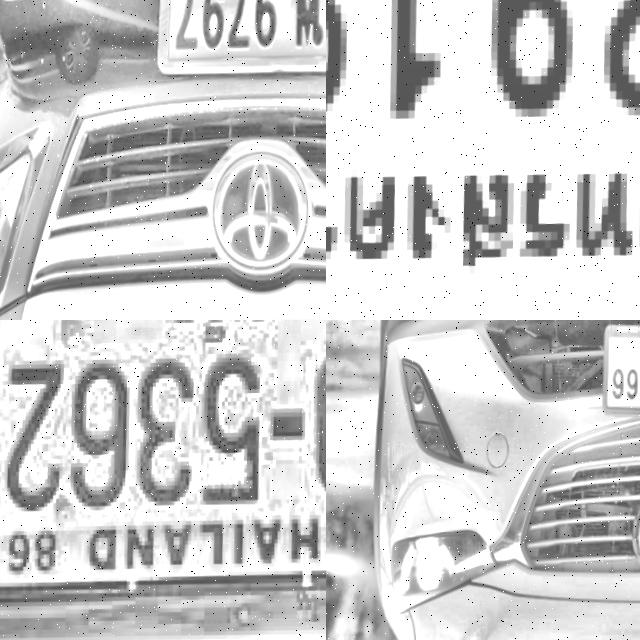license-plate: (0, 320, 326, 640), (326, 0, 640, 320), (145, 0, 326, 98), (598, 321, 640, 428)
